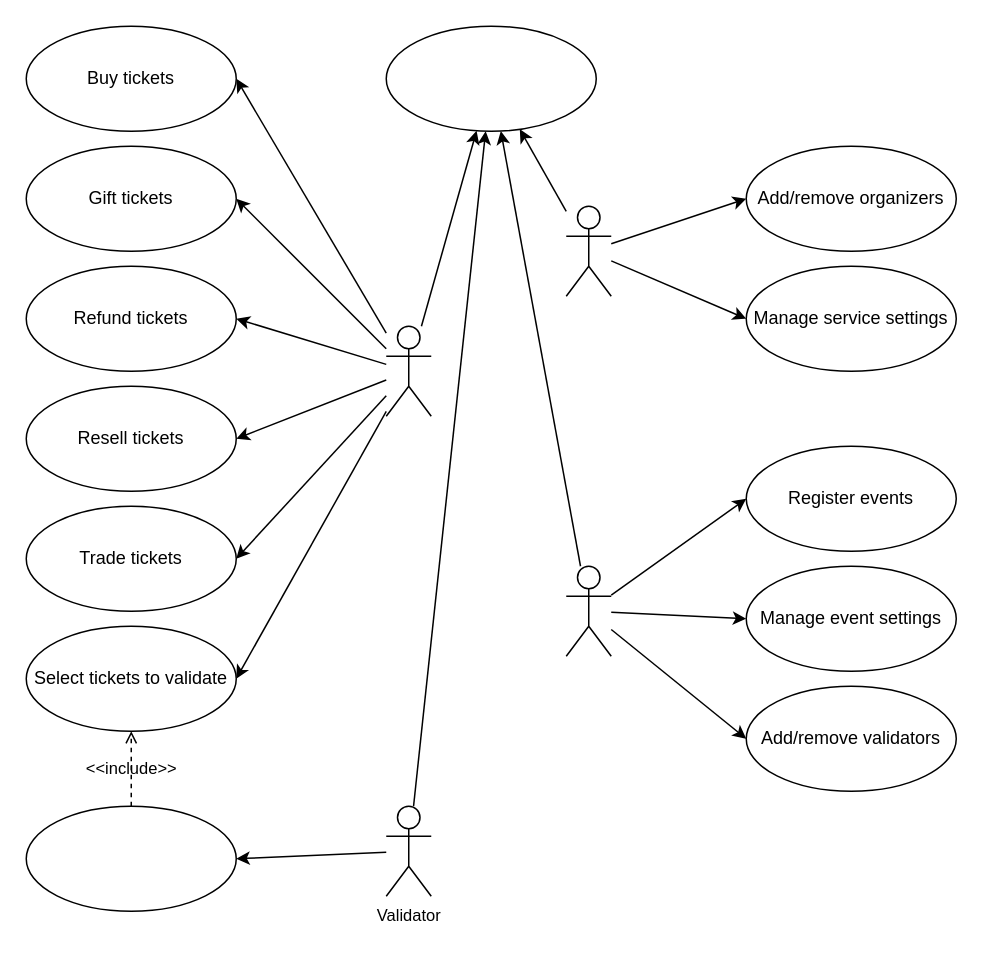
The diagram is 983 pixels wide and 953 high, and some of its shapes have lost their labels. The centre of each missing label's shape, as x and y in pixels:
"Authenticate" goes at (x=490, y=78).
"Organizer" goes at (x=588, y=610).
"Ticketchain" goes at (x=588, y=250).
"User" goes at (x=408, y=370).
"Validate user tickets" goes at (x=130, y=858).
